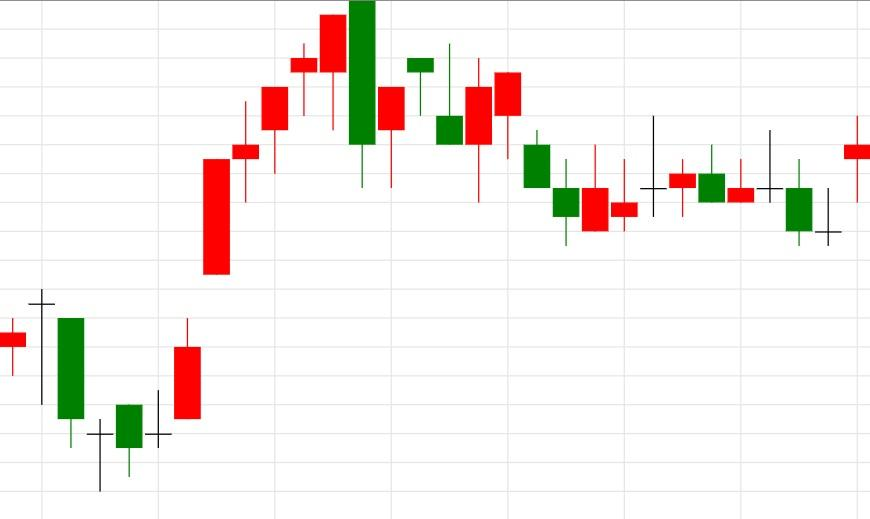bearish_engulfing_fall: (86, 0, 376, 492)
